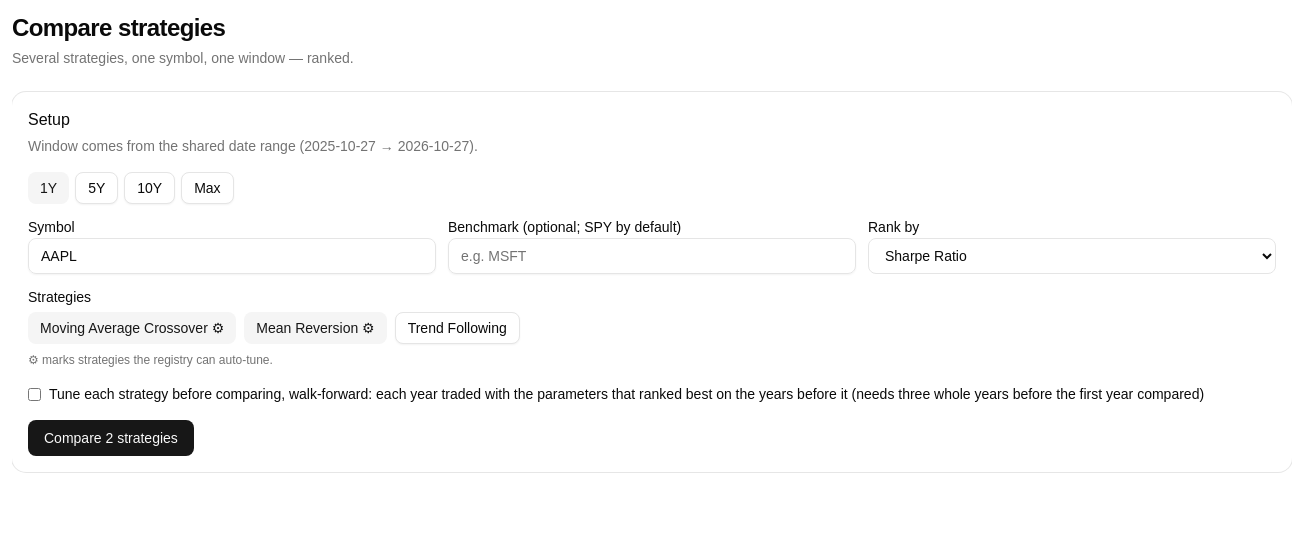
Test: ComparePage — results › surfaces an API rejection
Click the button "Compare 2 strategies". click: (111, 438)
box: [28,420,194,456]
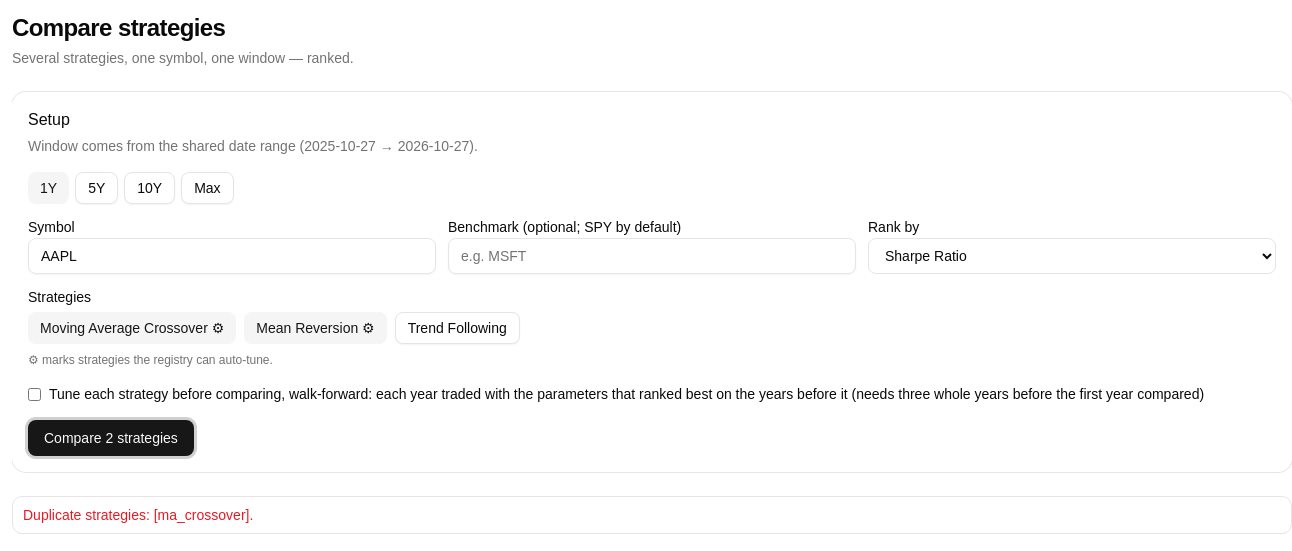
Expected: the text "Duplicate strategies: [ma_crossover]." is shown, [23,507,253,523]
